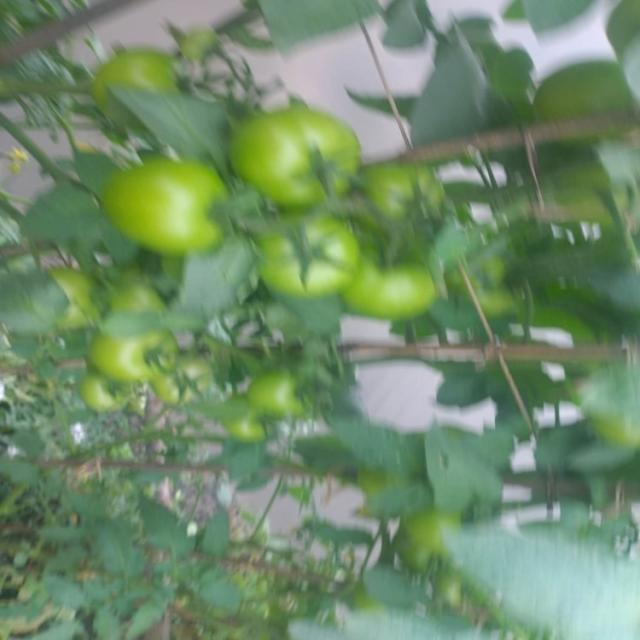tomato: (88, 152, 303, 276), (215, 90, 367, 208), (214, 201, 361, 316), (336, 143, 464, 256), (528, 46, 640, 164), (332, 246, 457, 341), (64, 319, 211, 395), (245, 350, 365, 428), (37, 357, 158, 431), (78, 50, 193, 121), (56, 265, 123, 336), (98, 270, 172, 317), (399, 517, 460, 574), (160, 350, 223, 397), (214, 392, 269, 431)
